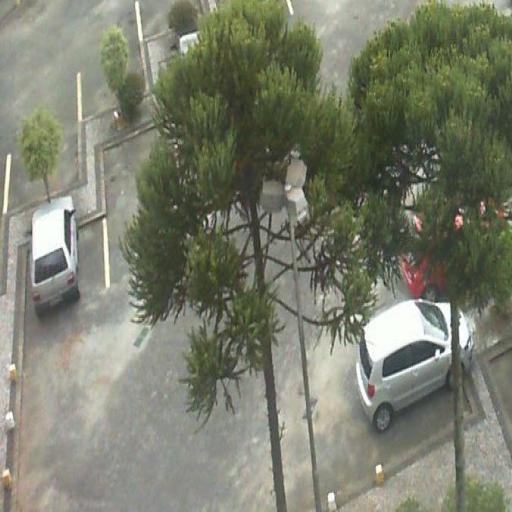car: (356, 295, 474, 435), (399, 190, 512, 310), (30, 191, 83, 321)
